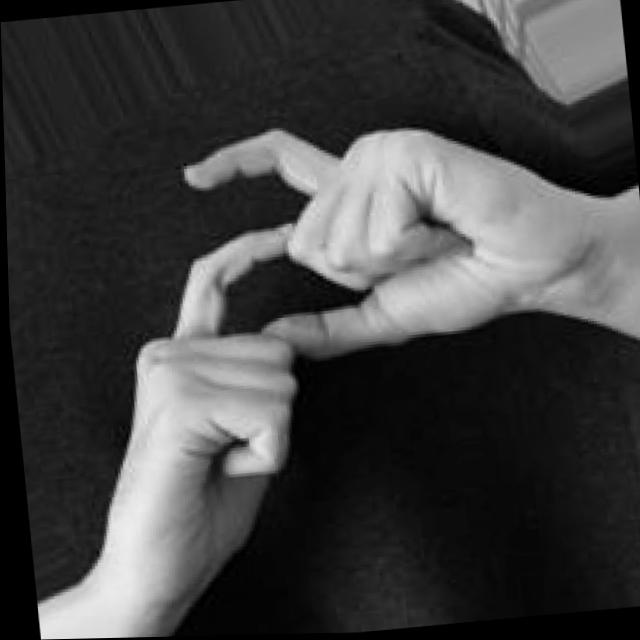G: (36, 92, 621, 592)
